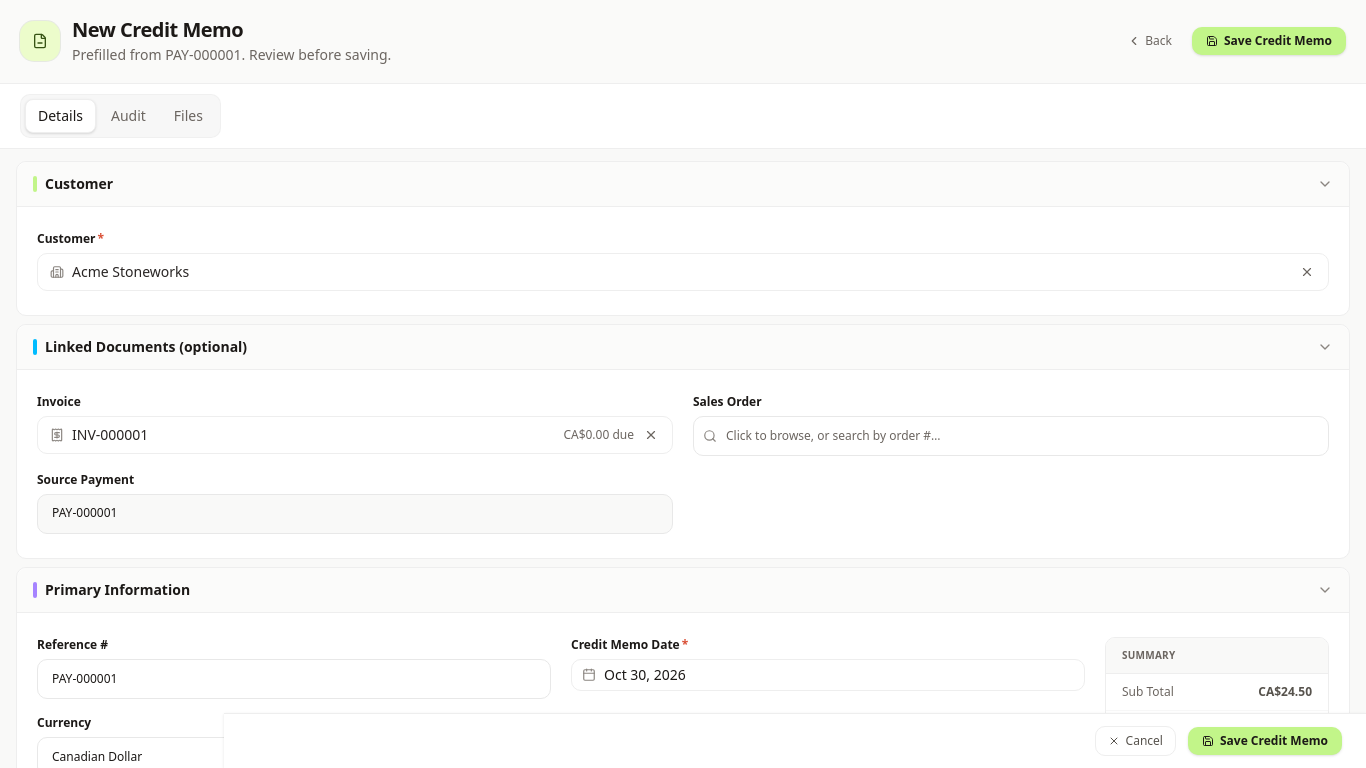
Test: AddCreditMemoPage payment handoff › clears payment and invoice lineage when the customer changes
Expected: the text "Acme Stoneworks" is shown, left=72, top=262, right=189, bottom=281
Click the button named "Change billing customer" at (1307, 272), box left=1298, top=263, right=1316, bottom=281
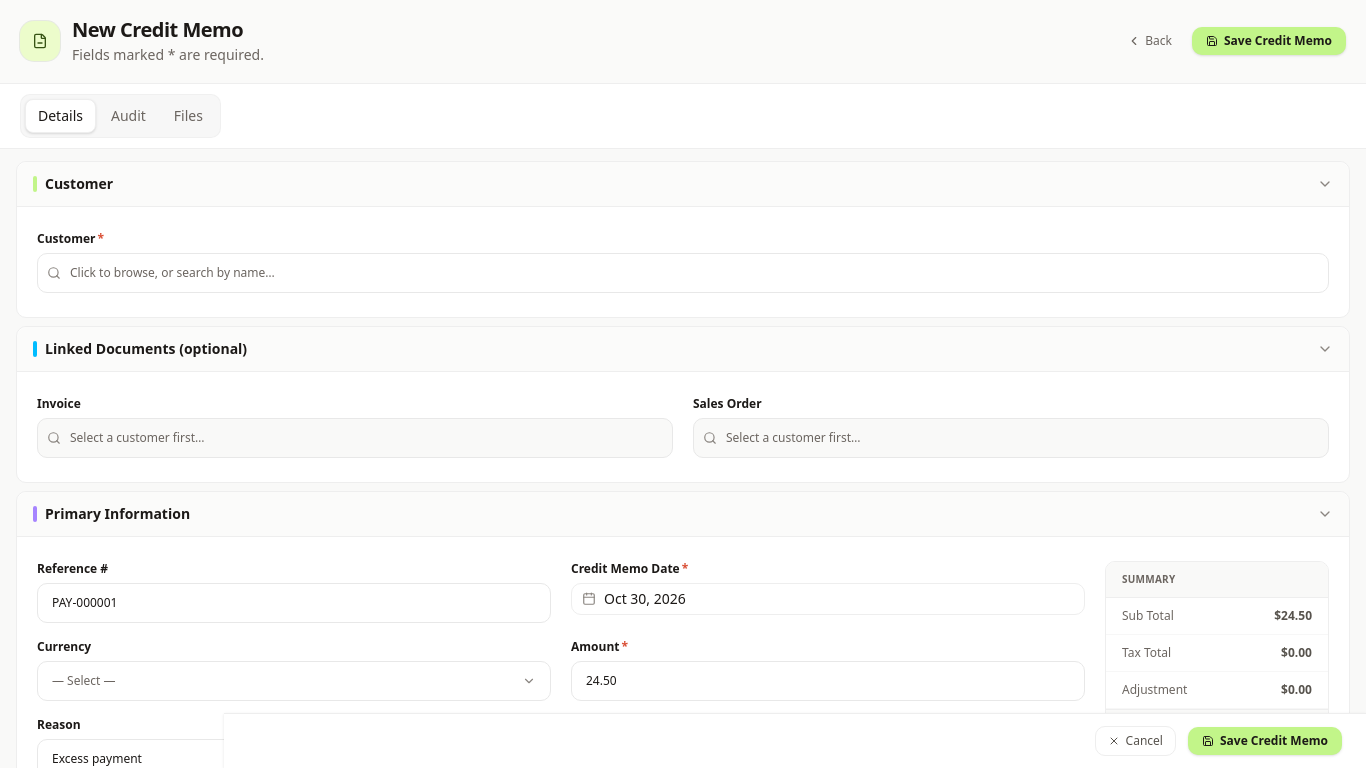
Expected: the text "INV-000001" is gone
